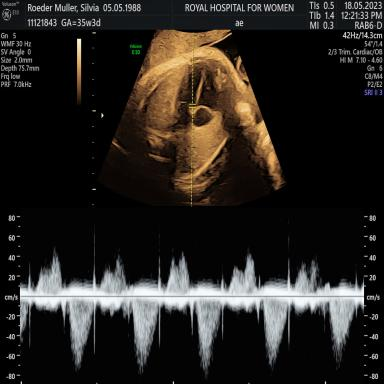Ultrasound-Waves: (25, 214, 363, 384)
